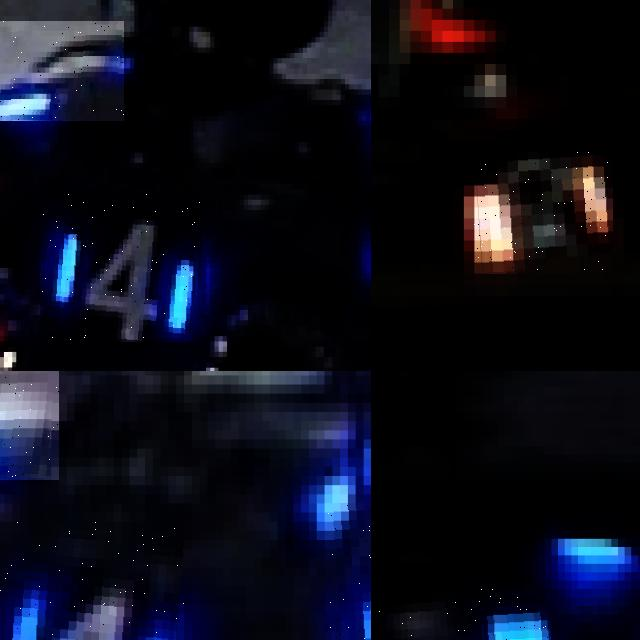B1: (377, 589, 551, 640)
B4: (40, 194, 204, 342), (0, 522, 184, 640), (0, 21, 124, 120), (324, 503, 371, 640), (0, 371, 59, 480)
Rs: (474, 152, 613, 274)
